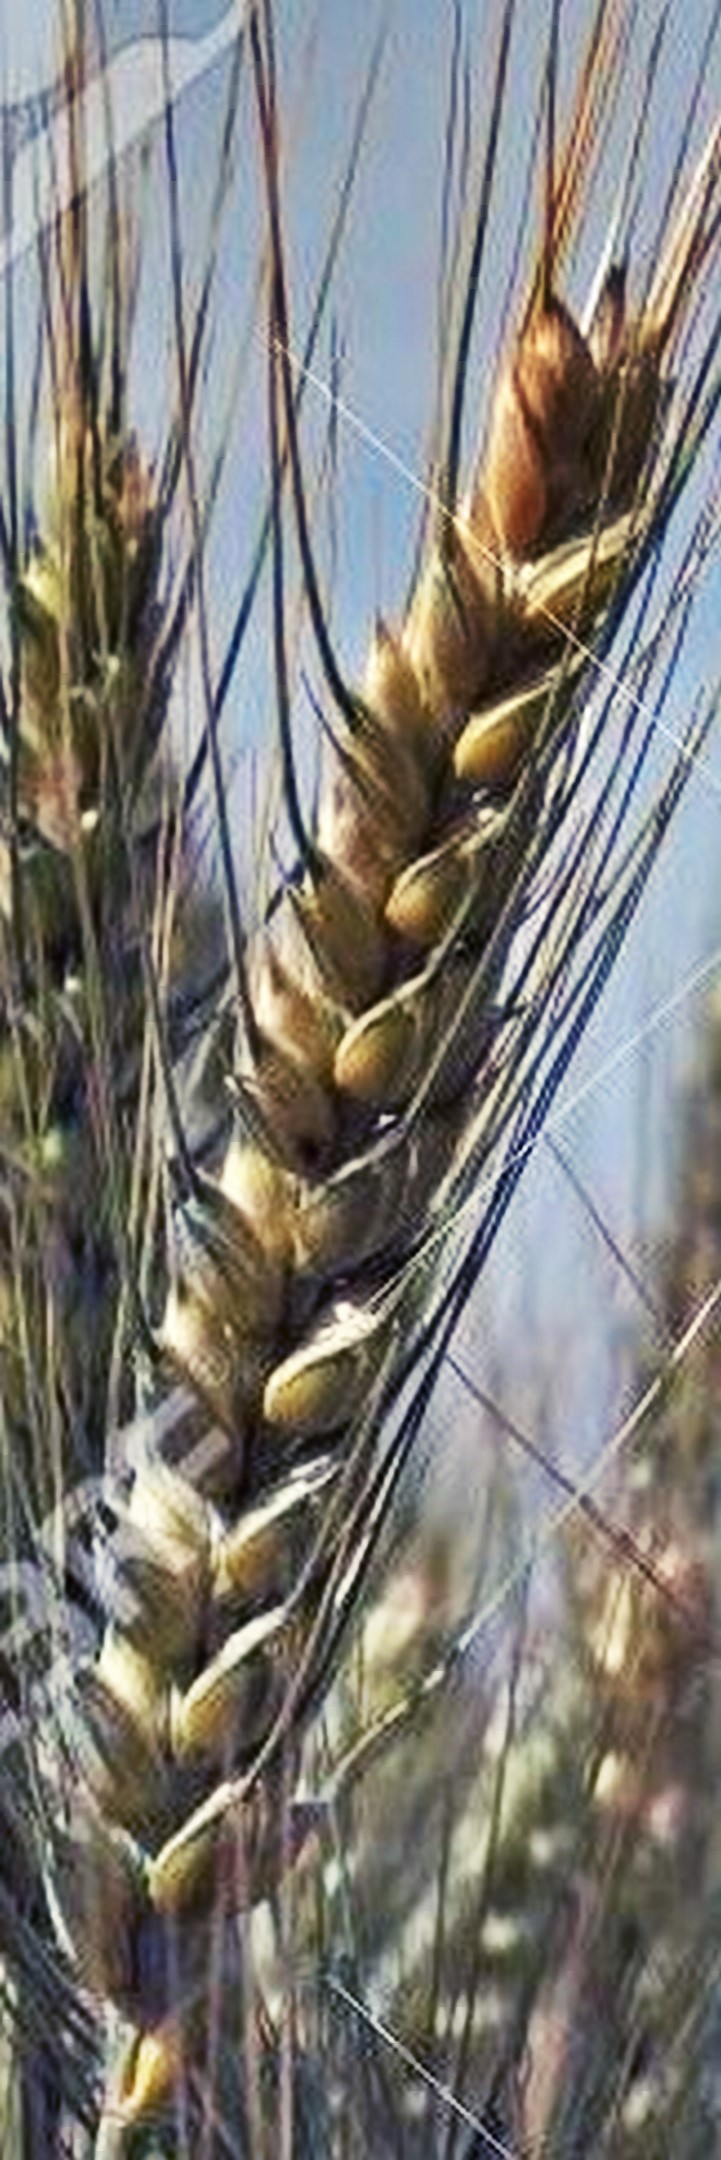Healthy Wheat: (77, 249, 715, 1997)
